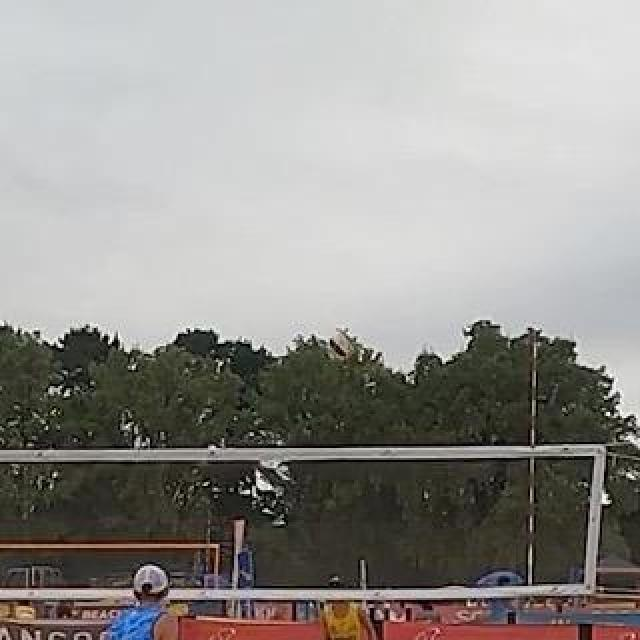volleyball: (330, 330, 356, 360)
